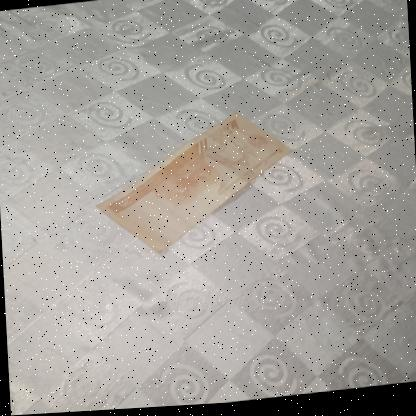twenty-back-vef: (89, 106, 297, 263)
